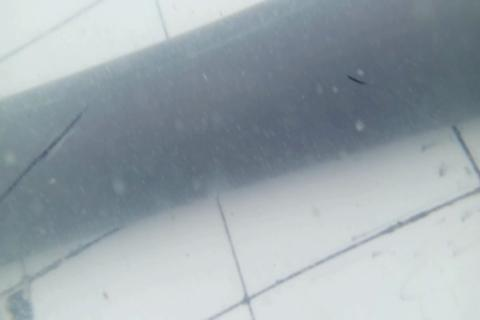keretakan: (0, 104, 89, 203), (345, 74, 365, 88)
